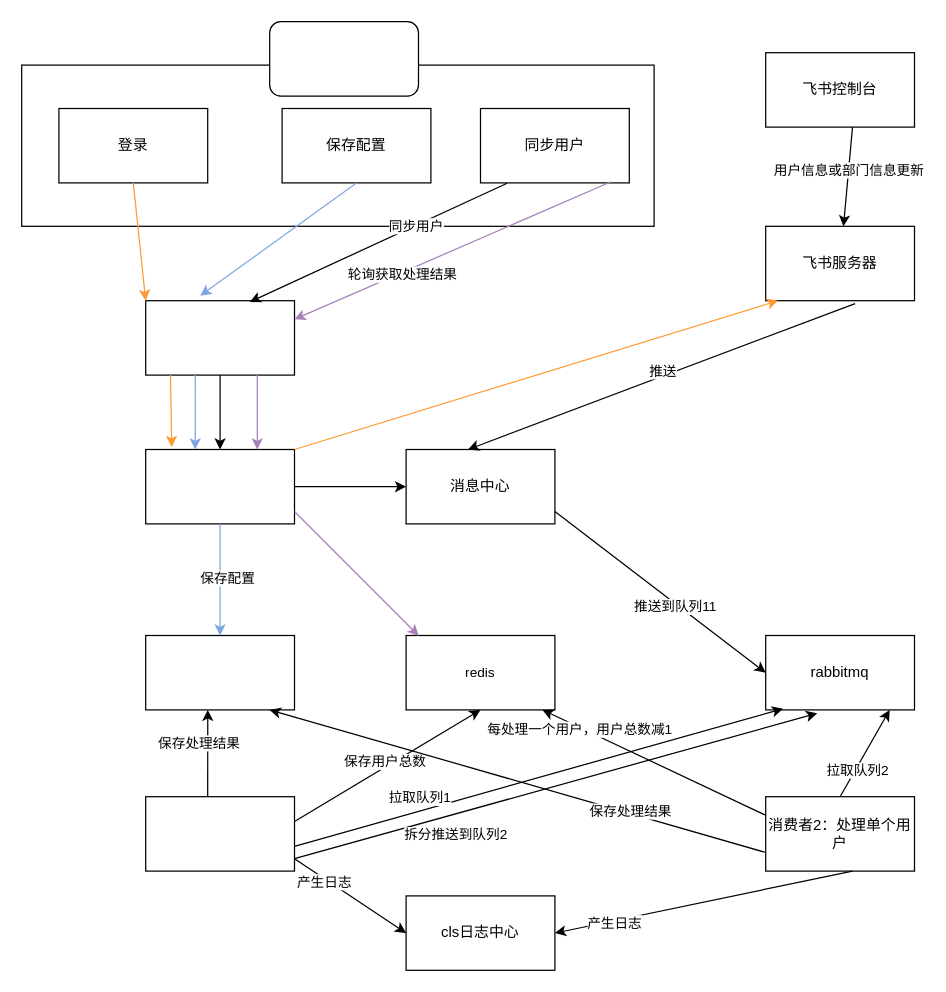
Some shapes in this 946 by 992 pixel diagram are drawn without their labels. The centre of each missing label's shape, as x and y in pixels:
"todesk控制台" goes at (343,58).
"控制台网关" goes at (219,337).
"数据库" goes at (219,672).
"消费者1:消息拆分，处理用户组，并推送到队列2" goes at (219,833).
"用户服务" goes at (219,486).
